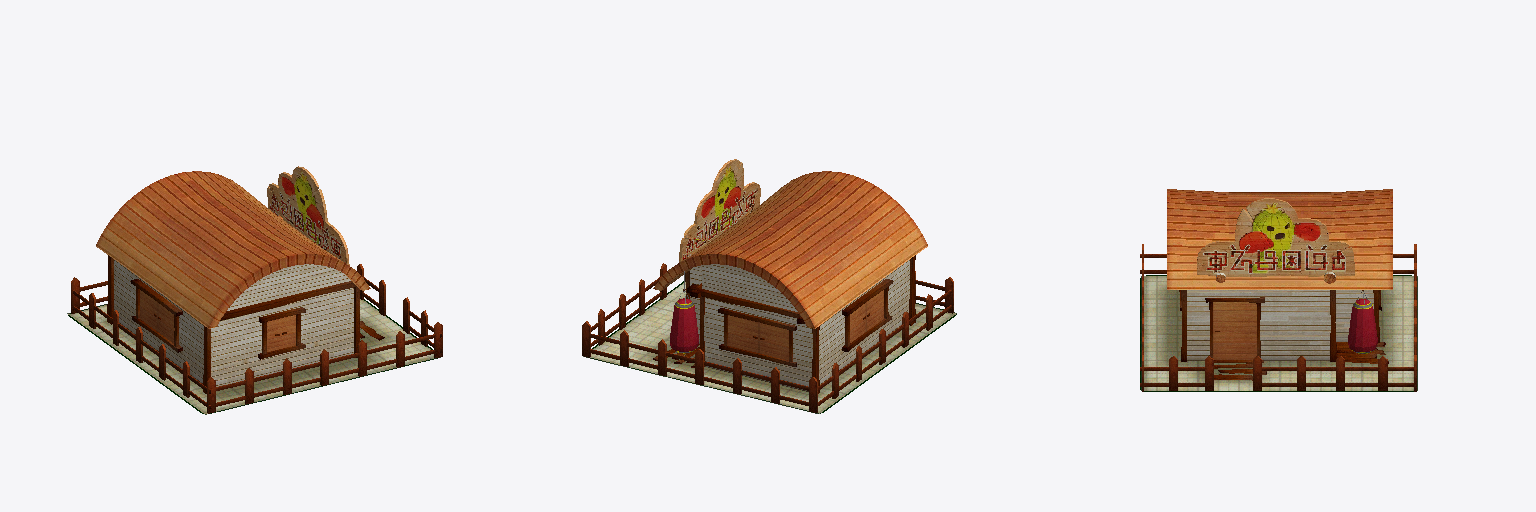
3 renders of one model, left to right at view 1: azimuth 30°, elevation 25°; view 2: azimuth 150°, elevation 25°; view 3: azimuth 270°, elevation 25°, orthographic.
Parts seen in each view (by area): view 1: _001_farm_build_01, _000_farm_build_01_tile, _002_farm_build_01; view 2: _001_farm_build_01, _000_farm_build_01_tile, _002_farm_build_01; view 3: _001_farm_build_01, _000_farm_build_01_tile, _002_farm_build_01.
Boxes of the visible parts, <box> form: _001_farm_build_01: <box>71,171,442,413</box>; _000_farm_build_01_tile: <box>67,299,440,414</box>; _002_farm_build_01: <box>267,166,349,265</box>; _001_farm_build_01: <box>582,171,953,412</box>; _000_farm_build_01_tile: <box>583,281,956,413</box>; _002_farm_build_01: <box>679,159,760,261</box>; _001_farm_build_01: <box>1140,189,1416,391</box>; _000_farm_build_01_tile: <box>1140,275,1417,391</box>; _002_farm_build_01: <box>1197,198,1354,276</box>.
Bounding box in the file's own units: 8.97 × 5.05 × 8.97.
Materials: 3 (3 with a texture image).